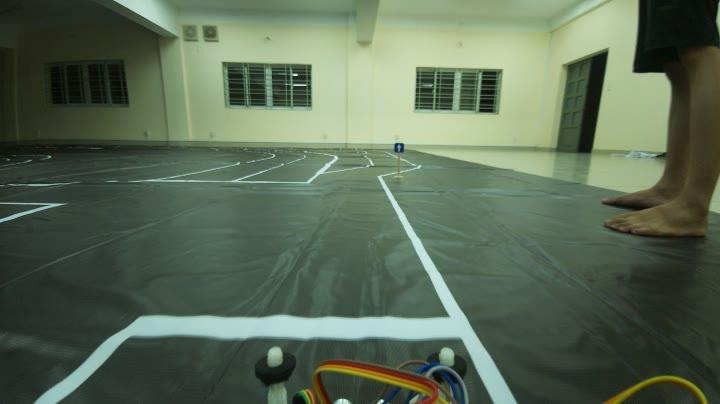onewayroad: (390, 140, 408, 156)
